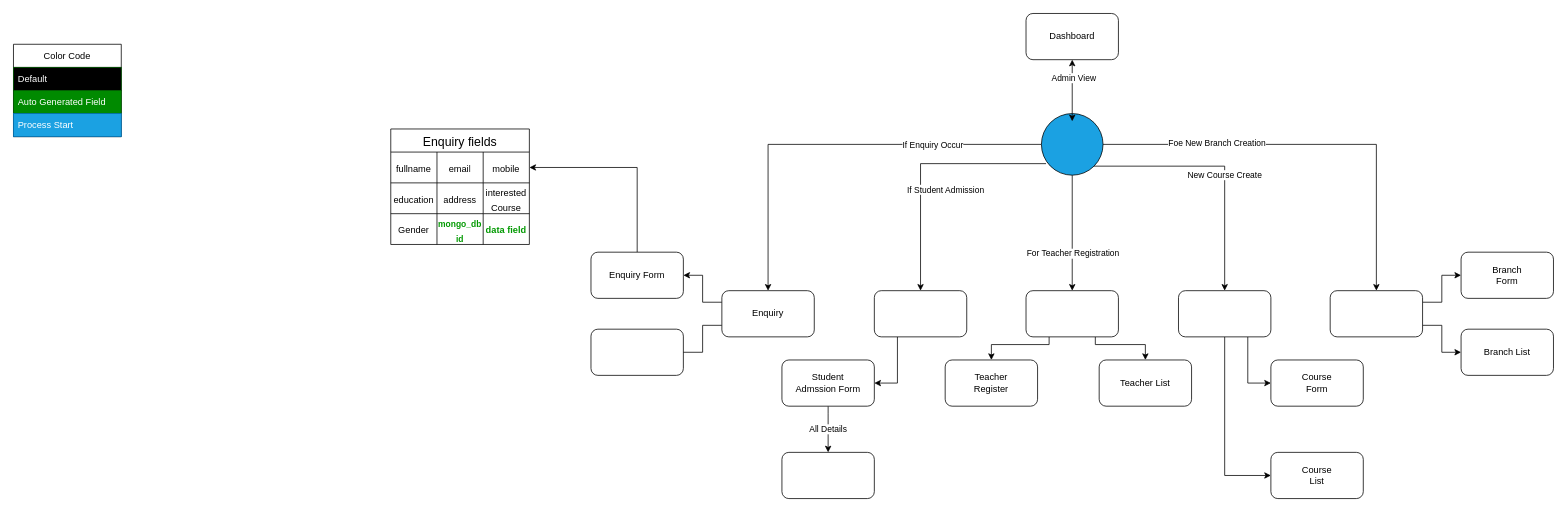
This 1567x512 diagram has some shape labels left out. The centre of each missing label's shape, as x and y in pixels:
Admission Process: pixel 1072 144
Branch: pixel 1376 313
Course: pixel 1224 313
Enquiry List: pixel 636 351
Fee Structure: pixel 827 475
Student Registration: pixel 920 313
Teacher Registration: pixel 1071 313
